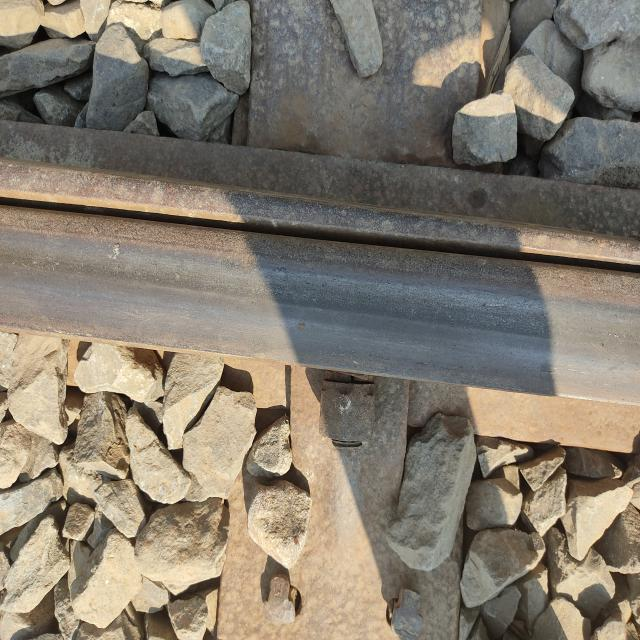defective: (202, 143, 485, 497)
